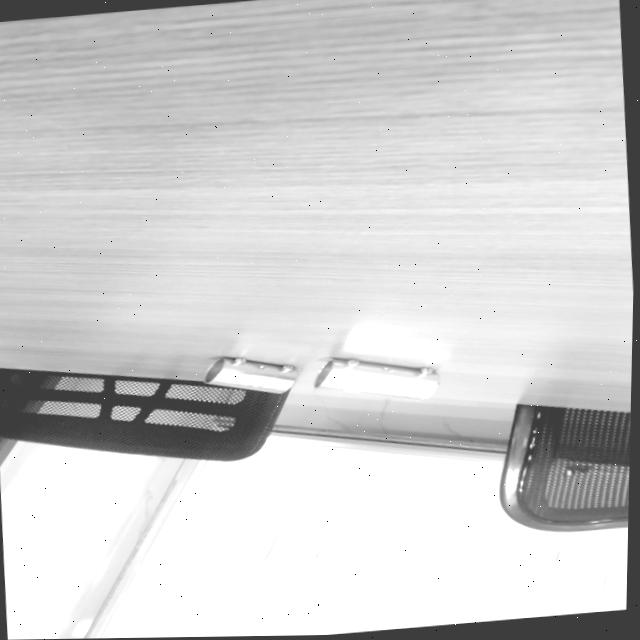Co_Lon: (313, 354, 440, 401)
Co_Nho: (204, 352, 298, 396)
